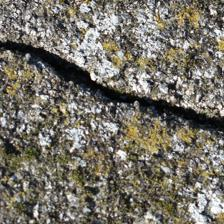Crack: (3, 17, 216, 119)
